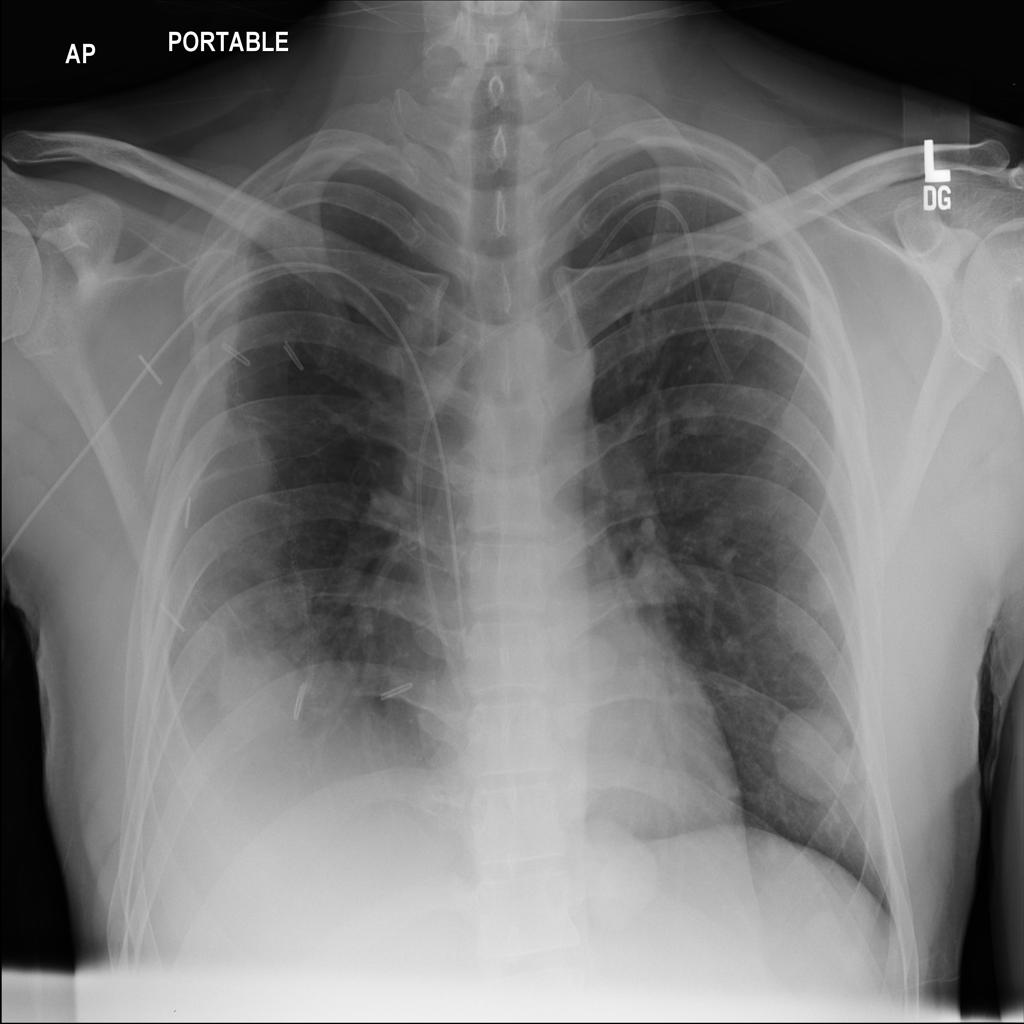nodule: (200, 623, 319, 743), (765, 690, 863, 814), (571, 821, 672, 933), (254, 565, 328, 642), (621, 542, 697, 614), (793, 547, 855, 631), (563, 623, 628, 699), (665, 378, 734, 449)
